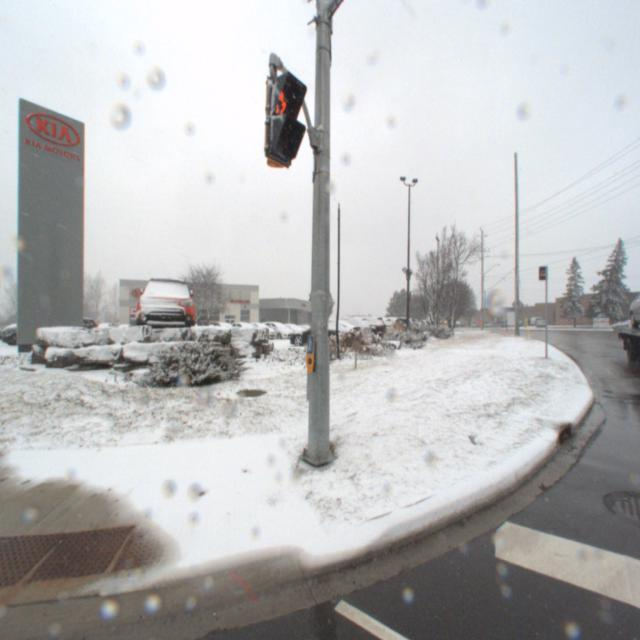Car: (128, 264, 198, 333), (281, 317, 365, 351), (304, 316, 374, 349), (322, 314, 388, 347), (196, 318, 244, 342), (223, 318, 263, 341), (254, 319, 294, 339), (237, 320, 276, 340), (269, 321, 309, 338), (110, 318, 132, 333)
